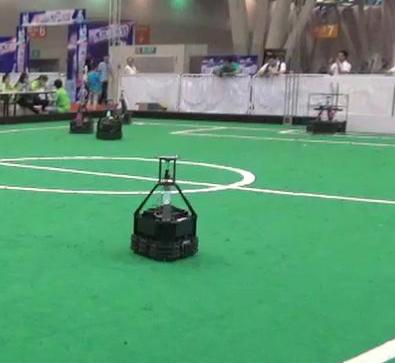robot: (126, 151, 202, 262)
